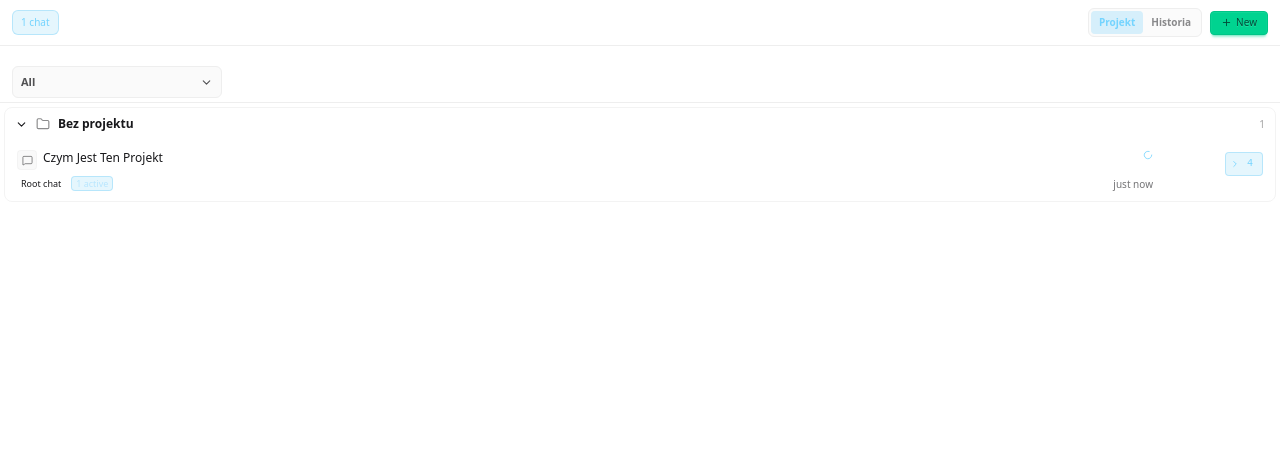
Test: SessionPanel › shows architecture branch statuses from parent run metadata after reload
The width and height of the screenshot is (1280, 467).
Click the button with test id "toggle-session-children-host": (1244,164) [1225,152,1263,176]
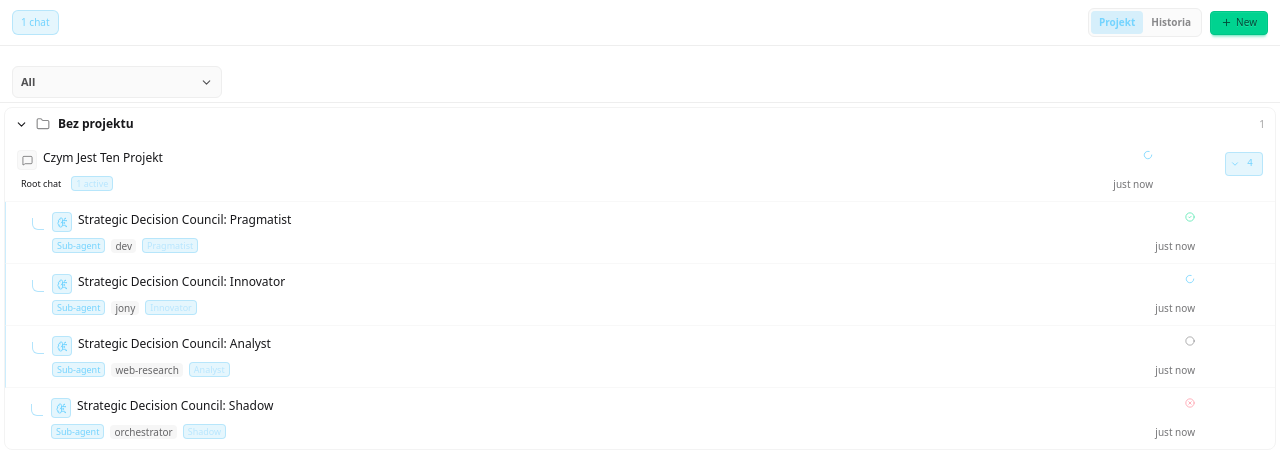
Now the icon with test id "session-done-arch-run-pragmatist" is shown, box [1185,212,1195,222]
Now the icon with test id "session-running-arch-run-innovator" is shown, box [1185,274,1195,284]
Now the icon with test id "session-pending-arch-run-analyst" is shown, box [1185,336,1195,346]
